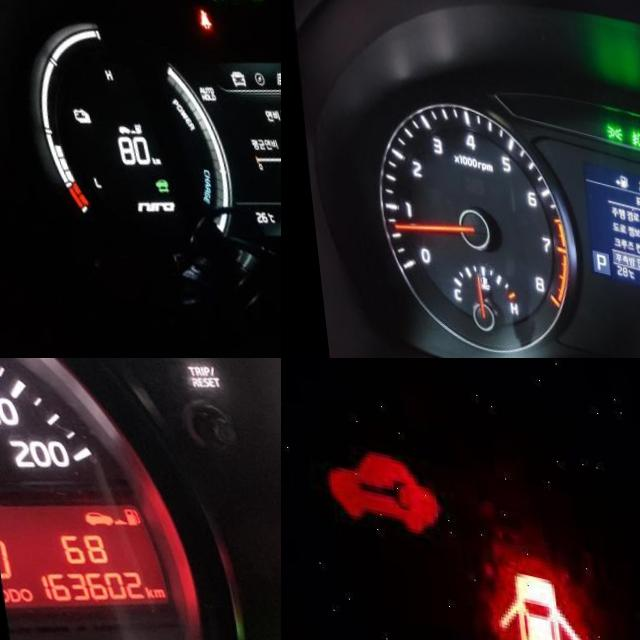FrontFogLight: (624, 113, 638, 130)
SideLamp: (599, 109, 617, 126)
